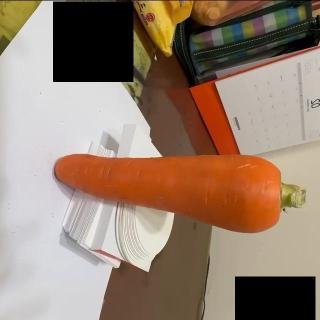carrot: (53, 153, 306, 234)
